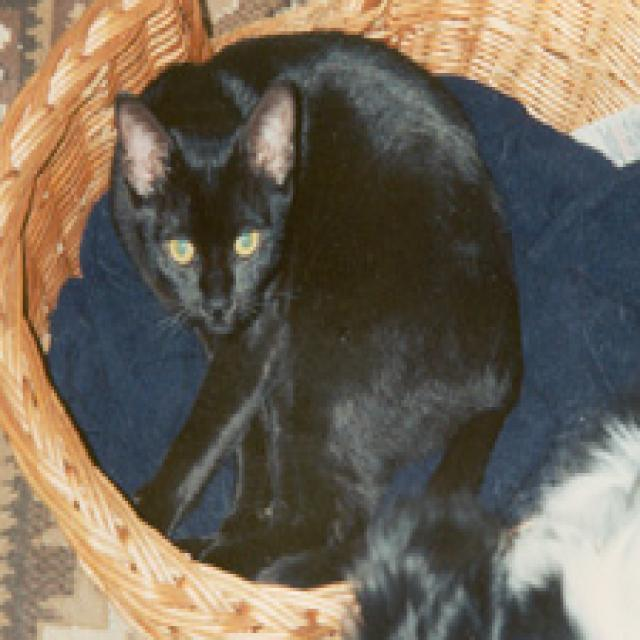Bombay: (109, 27, 528, 595)
